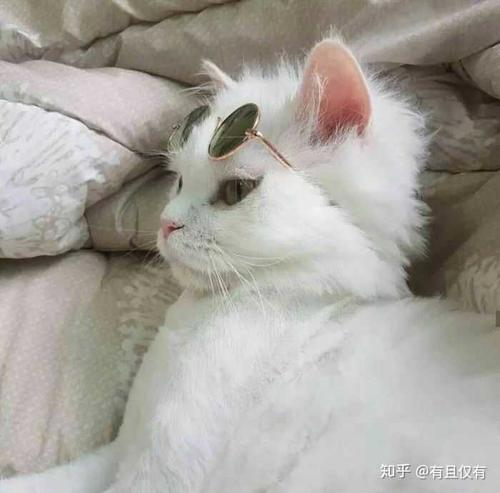cat: (141, 43, 441, 294)
